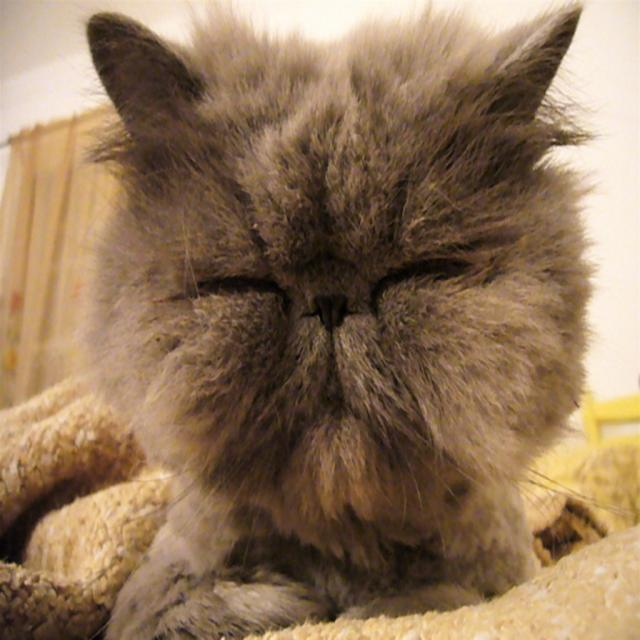Cat: (41, 0, 616, 638)
